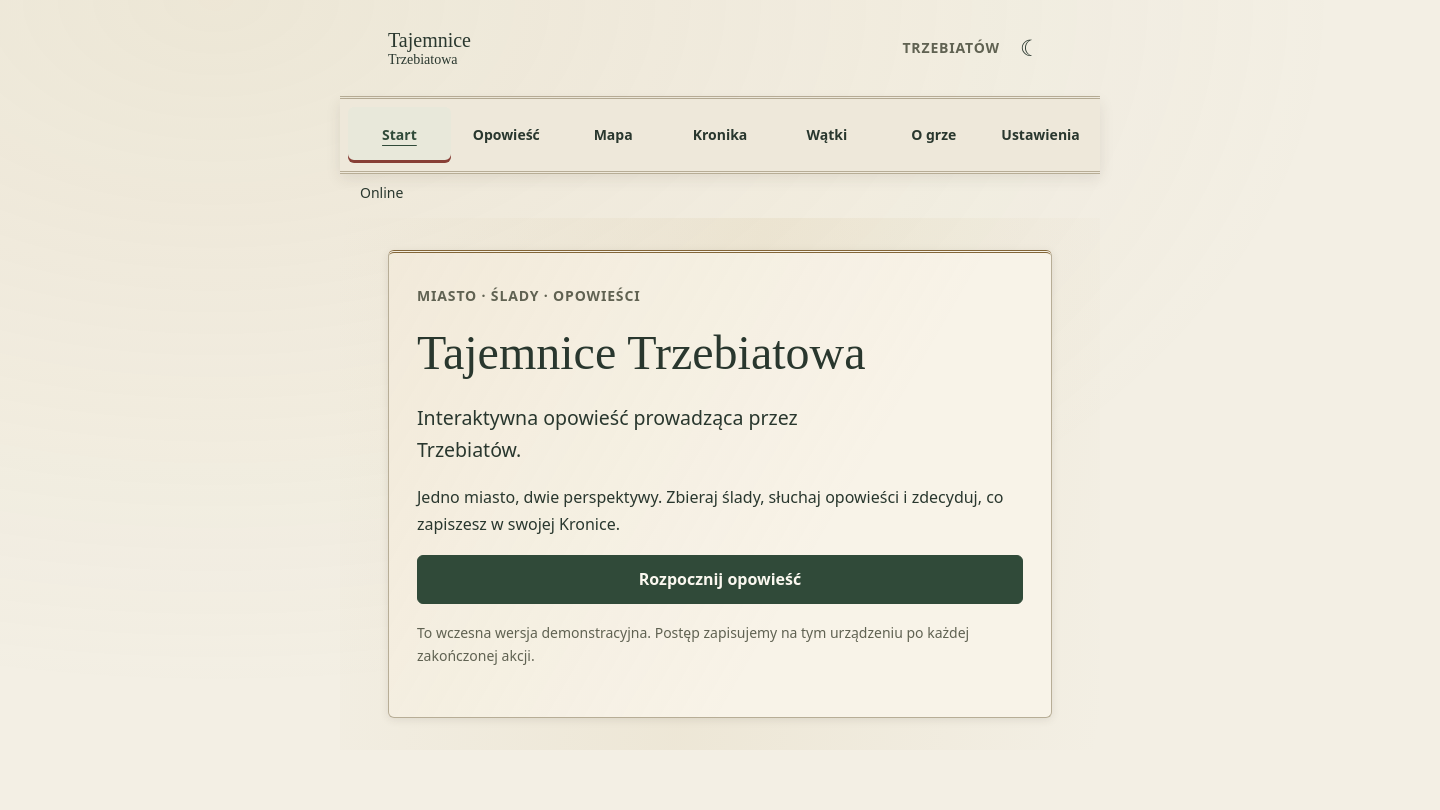
Test case: niespojny pakiet ma bezpieczny ekran bledu
Click the button "Rozpocznij opowieść" at (720, 580), box 417,555 -> 1023,604
(page scrolled)
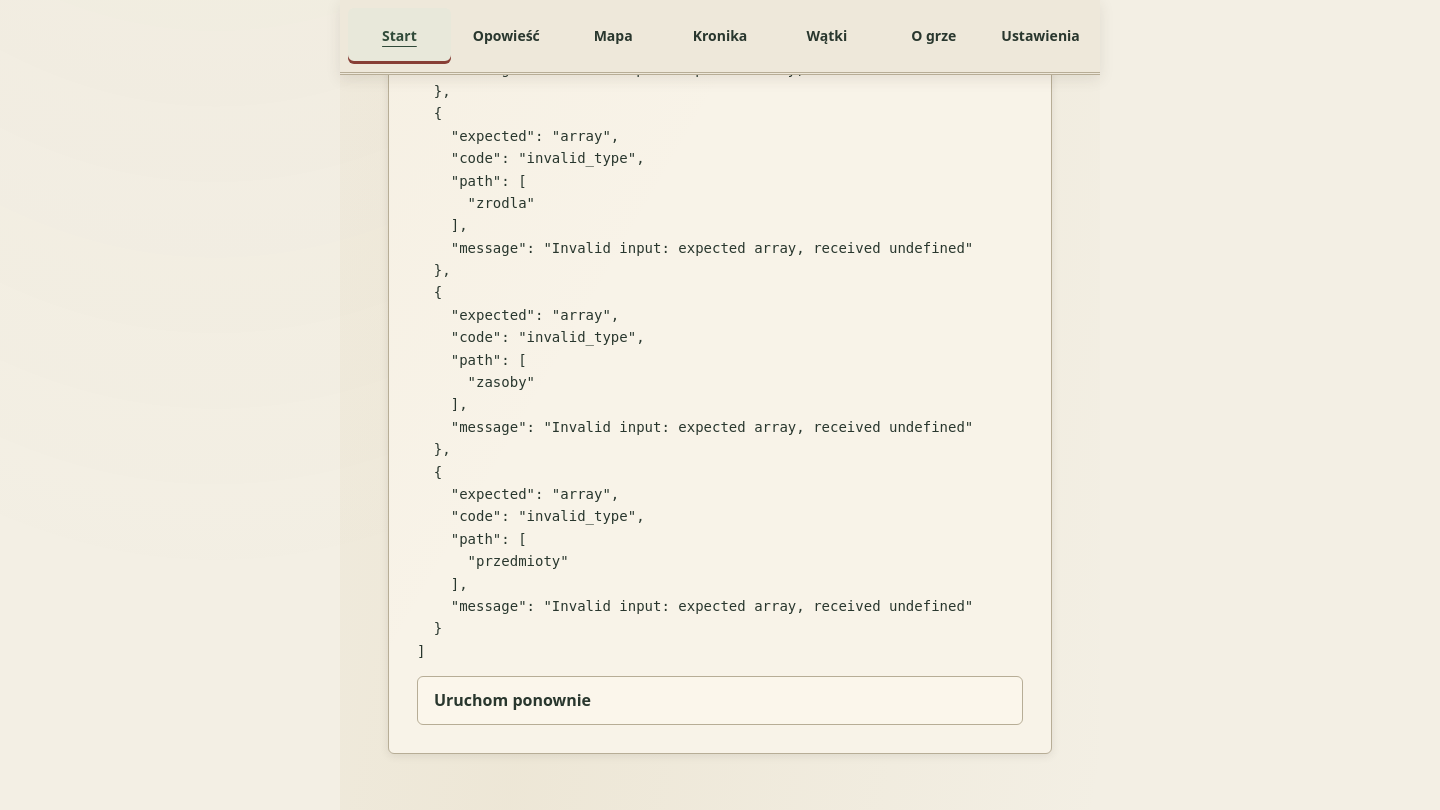
Expected: the button "Uruchom ponownie" is shown, 417,676 -> 1023,725
